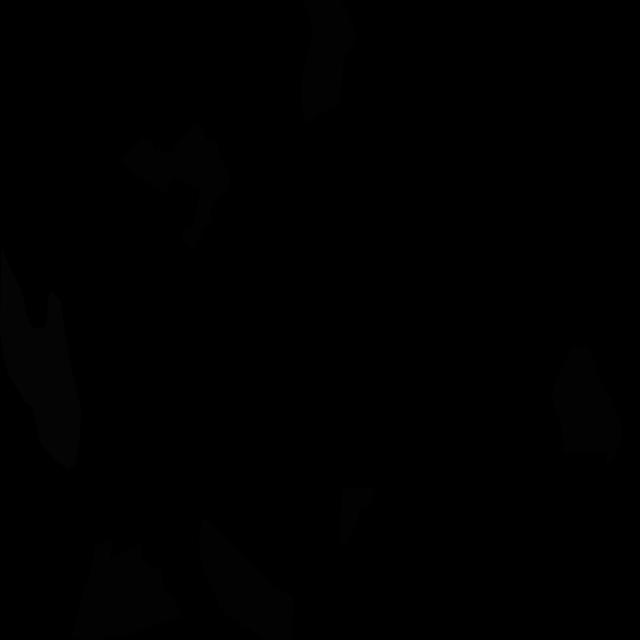cardboard: (118, 121, 230, 252), (198, 517, 294, 640), (69, 539, 182, 640), (550, 345, 622, 467), (301, 0, 356, 124), (339, 487, 377, 546)
soft_plastic: (0, 249, 81, 469)
